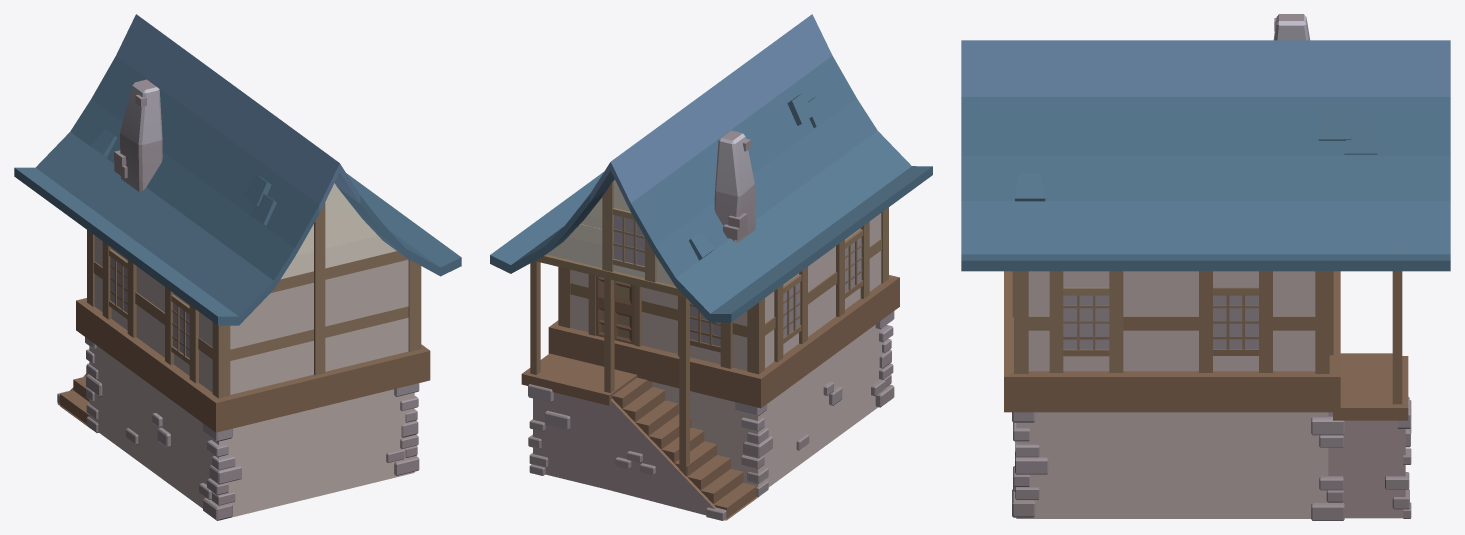
The model's file is house.glb.
3 renders of one model, left to right at view 1: azimuth 30°, elevation 25°; view 2: azimuth 150°, elevation 25°; view 3: azimuth 270°, elevation 25°, orthographic. The views are drawn at different scales.
Parts seen in each view (by area): view 1: House.001; view 2: House.001; view 3: House.001.
Part boxes in pixels (<box>): House.001: <box>14,14,461,520</box>; House.001: <box>490,14,932,520</box>; House.001: <box>961,14,1450,520</box>.
Bounding box in the file's own units: 5.31 × 7.37 × 7.7.
